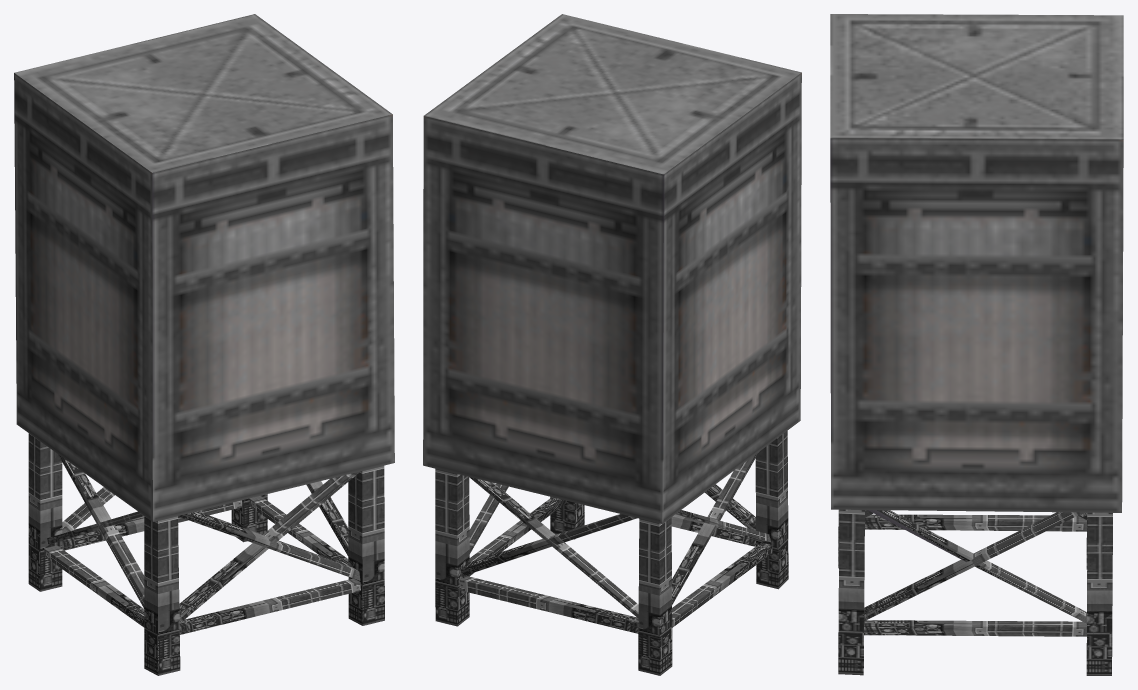
The model's file is Building-ComTower 1.fbx.
3 views of the same model, side by side, from view 1: azimuth 30°, elevation 25°; view 2: azimuth 150°, elevation 25°; view 3: azimuth 270°, elevation 25° (orthographic). The views are drawn at different scales.
Parts seen in each view (by area): view 1: north:polySurface4786; view 2: north:polySurface4786; view 3: north:polySurface4786.
Part boxes in pixels (box(x1,y1,x2,y2)): north:polySurface4786: box(14, 14, 394, 675); north:polySurface4786: box(423, 14, 801, 675); north:polySurface4786: box(830, 14, 1123, 675).
Size of the model in its own units: 0.1775 by 0.3567 by 0.1753.
